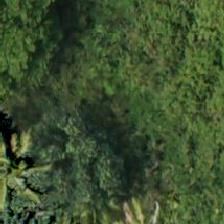Kelapa_Sawit: (0, 114, 47, 204)
